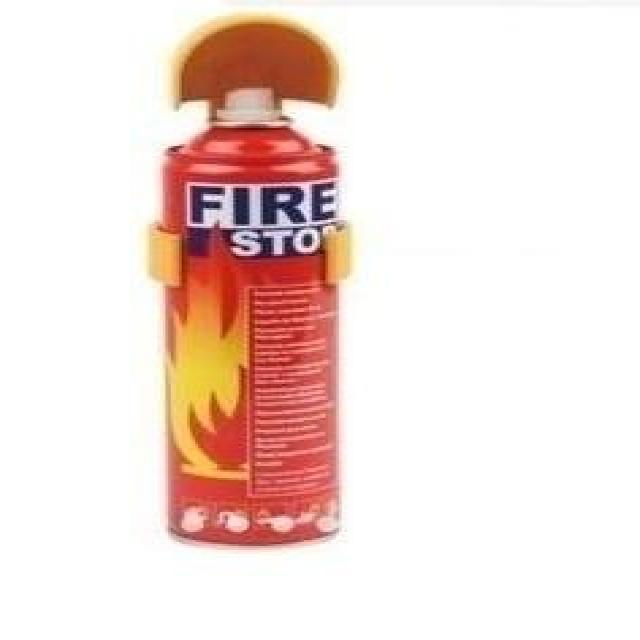fire_extinguisher: (145, 81, 351, 553)
